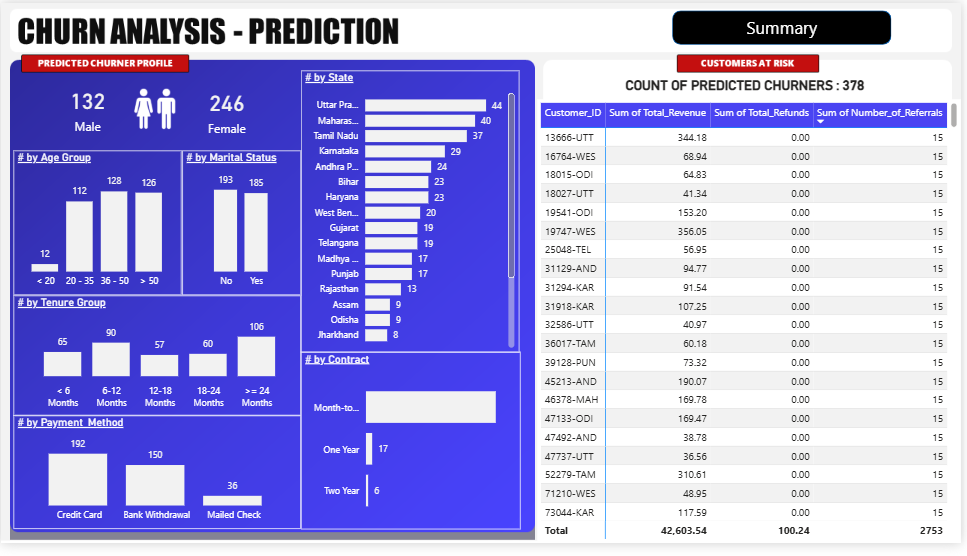

This screenshot's page, from the dashboard's own definition file:
{"tool":"powerbi","page":{"name":"Churn Prediction","canvas":[1280,720],"ordinal":2},"visuals":[{"type":"pivotTable","fields":{"Rows":["Predictions.Customer_ID"],"Values":["Sum(Predictions.Total_Revenue)","Sum(Predictions.Total_Refunds)","Sum(Predictions.Number_of_Referrals)"]},"box":[715,128.3,565,591.7],"z":0},{"type":"card","fields":{"Values":["Predictions.Title Predicted Churners"]},"box":[760,91.4,464.3,37.1],"z":1000},{"type":"card","fields":{"Values":["Predictions.Count Predicted Churner"]},"box":[205.7,72.9,192.9,138.6],"z":2000},{"type":"card","fields":{"Values":["Predictions.Count Predicted Churner"]},"box":[0,55.7,231.4,170],"z":3000},{"type":"clusteredColumnChart","fields":{"Category":["mapping_AgeGrp.Age Group"],"Y":["CountNonNull(Predictions.Customer_ID)"]},"box":[17.1,197.1,224.3,192.9],"z":4000},{"type":"clusteredColumnChart","fields":{"Category":["Predictions.Married"],"Y":["CountNonNull(Predictions.Customer_ID)"]},"box":[241.4,197.1,158.6,192.9],"z":5000},{"type":"clusteredColumnChart","fields":{"Category":["mapping_TenureGrp.Tenure Group"],"Y":["CountNonNull(Predictions.Customer_ID)"]},"box":[17.1,390,382.9,160],"z":6000},{"type":"clusteredColumnChart","fields":{"Category":["Predictions.Payment_Method"],"Y":["CountNonNull(Predictions.Customer_ID)"]},"box":[17.1,550,382.9,151.4],"z":7000},{"type":"clusteredBarChart","fields":{"Category":["Predictions.Contract"],"Y":["CountNonNull(Predictions.Customer_ID)"]},"box":[400,464.3,292.9,237.1],"z":8000},{"type":"clusteredBarChart","fields":{"Category":["Predictions.State"],"Y":["CountNonNull(Predictions.Customer_ID)"]},"box":[399.3,90.6,290.9,376],"z":9000},{"type":"shape","box":[895.6,10.3,292.2,45.5],"z":9001},{"type":"image","box":[155,106.7,100,68.3],"z":9002}]}

Visuals, with their boxes in screenshot pixels (x1, y1, x2, y2), scaled from the page's 1280x720 canvas onto the 967x556 screenshot:
pivotTable - Predictions.Customer_ID x Sum(Predictions.Total_Revenue): x1=540 y1=99 x2=966 y2=555
card - Predictions.Title Predicted Churners: x1=574 y1=71 x2=925 y2=99
card - Predictions.Count Predicted Churner: x1=155 y1=56 x2=301 y2=163
card - Predictions.Count Predicted Churner: x1=0 y1=43 x2=175 y2=174
clusteredColumnChart - mapping_AgeGrp.Age Group x CountNonNull(Predictions.Customer_ID): x1=13 y1=152 x2=182 y2=301
clusteredColumnChart - Predictions.Married x CountNonNull(Predictions.Customer_ID): x1=182 y1=152 x2=302 y2=301
clusteredColumnChart - mapping_TenureGrp.Tenure Group x CountNonNull(Predictions.Customer_ID): x1=13 y1=301 x2=302 y2=425
clusteredColumnChart - Predictions.Payment_Method x CountNonNull(Predictions.Customer_ID): x1=13 y1=425 x2=302 y2=542
clusteredBarChart - Predictions.Contract x CountNonNull(Predictions.Customer_ID): x1=302 y1=359 x2=523 y2=542
clusteredBarChart - Predictions.State x CountNonNull(Predictions.Customer_ID): x1=302 y1=70 x2=521 y2=360
shape: x1=677 y1=8 x2=897 y2=43
image: x1=117 y1=82 x2=193 y2=135
